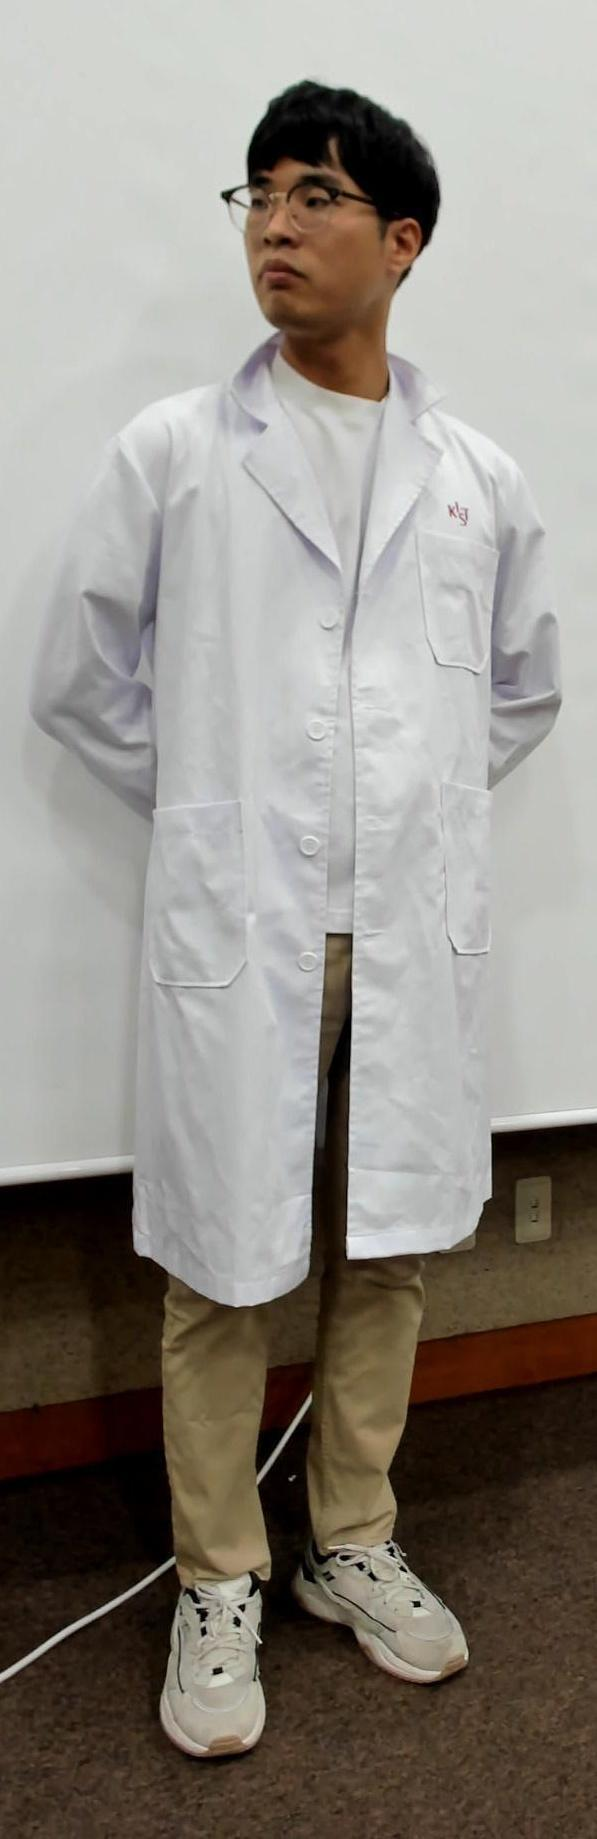lab_coat: (50, 391, 551, 1267)
